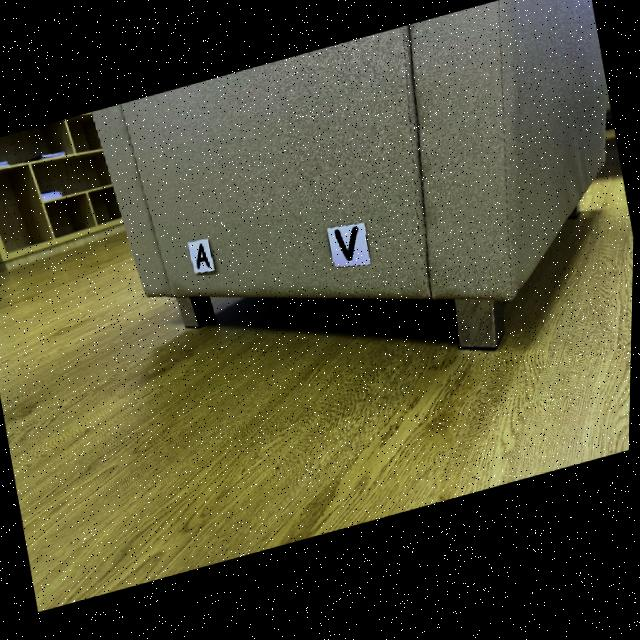A: (198, 247, 211, 272)
V: (336, 233, 360, 268)
